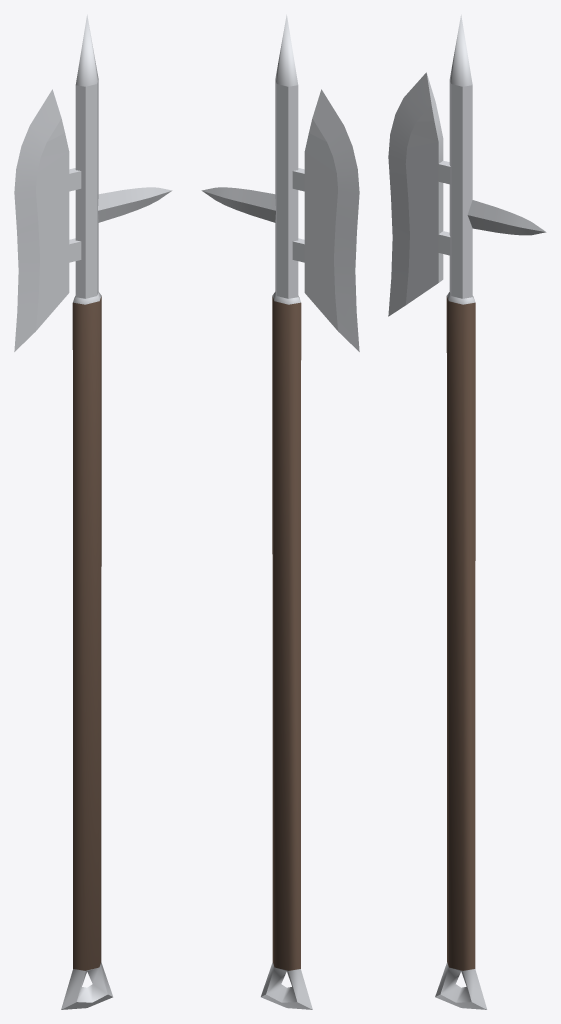
File: Weapon_Polearm.glb
The picture shows the model from 3 angles, left to right: view 1: azimuth 30°, elevation 25°; view 2: azimuth 150°, elevation 25°; view 3: azimuth 330°, elevation 25°; orthographic projection.
Visible parts, largest first — view 1: Weapon_Polearm; view 2: Weapon_Polearm; view 3: Weapon_Polearm.
Part boxes in pixels (left/top/right/bottom): Weapon_Polearm: left=14, top=14, right=172, bottom=1009; Weapon_Polearm: left=201, top=14, right=359, bottom=1009; Weapon_Polearm: left=388, top=14, right=546, bottom=1009.
Size of the model in its own units: 0.3999 by 2.4 by 0.0459.
